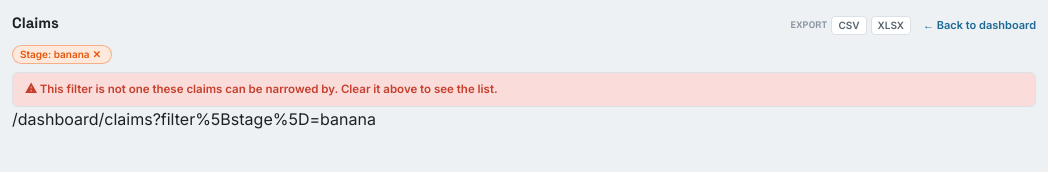
Test: a refused filter stays visible and clearable, and the copy does not promise a retry
Expected: the message with test id "drill-error" does not show "Try again in a moment", [12,72,1036,107]
Expected: the message with test id "drill-error" shows "Clear it above", [25,82,498,96]
Click the button named "remove" at (97, 54), box [90,49,104,59]
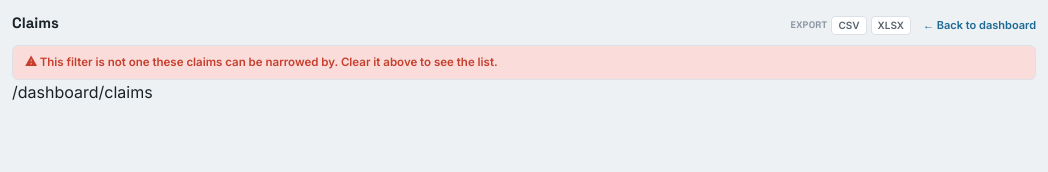
Result: the text with test id "location" reads "/dashboard/claims" at [12,82,153,102]
Result: the text with test id "location" no longer shows "banana" at [12,82,153,102]
